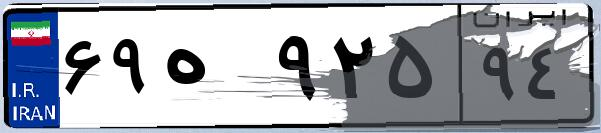2: (330, 28, 385, 110)
4: (525, 38, 570, 115)
5: (385, 28, 445, 110)
6: (57, 26, 110, 100)
9: (270, 28, 330, 110), (475, 38, 525, 113), (110, 28, 158, 98)
ه: (158, 20, 270, 120)
